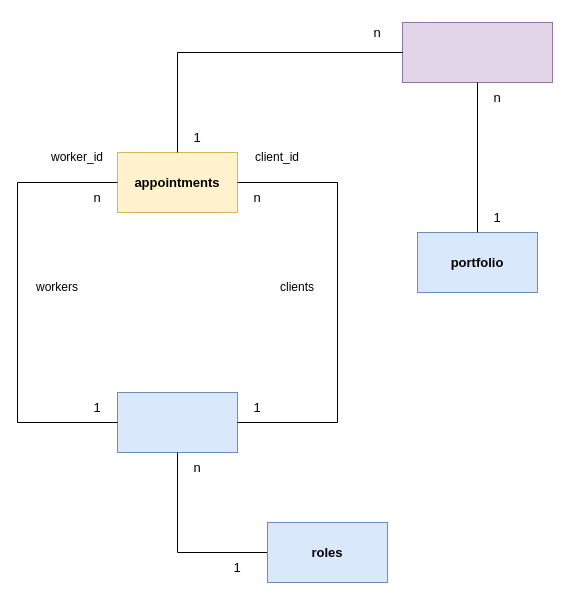
The diagram is 570 pixels wide and 600 high, and some of its shapes have lost their labels. The shapes that lost their labels are listed below. From the top down, each one's centre as x and y in pixels, then its label:
At [477,52]: "appointment_portfolio".
At [177,422]: "users".
